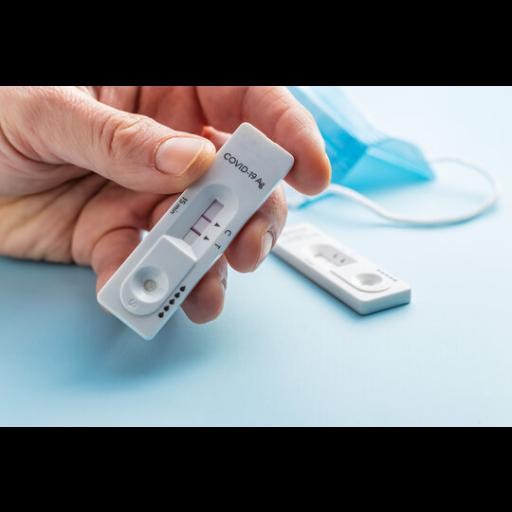Pos: (96, 121, 294, 340)
